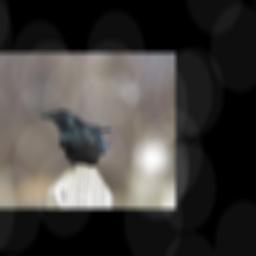Crow: (41, 110, 111, 172)
